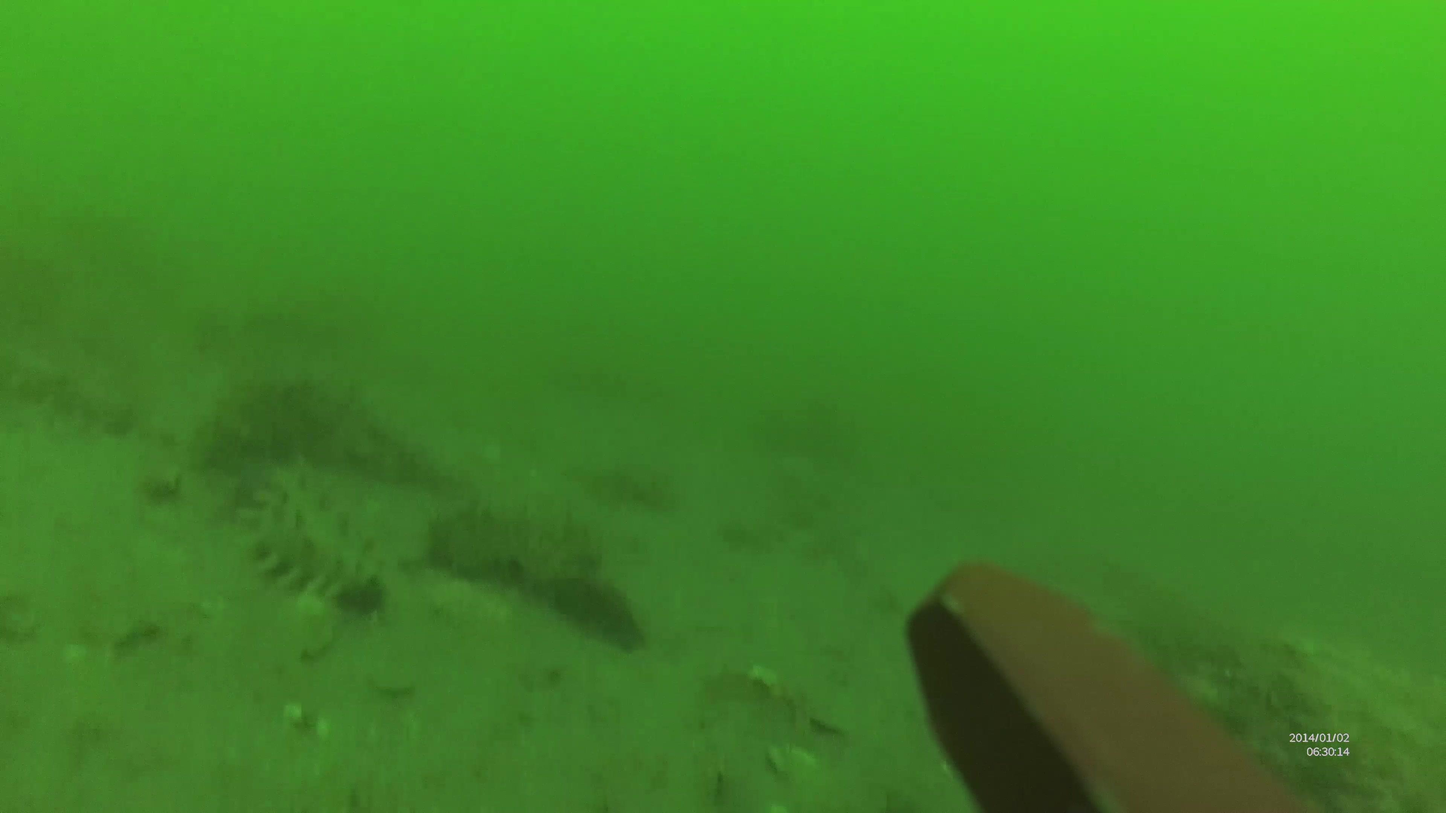echinus: (229, 486, 380, 606)
